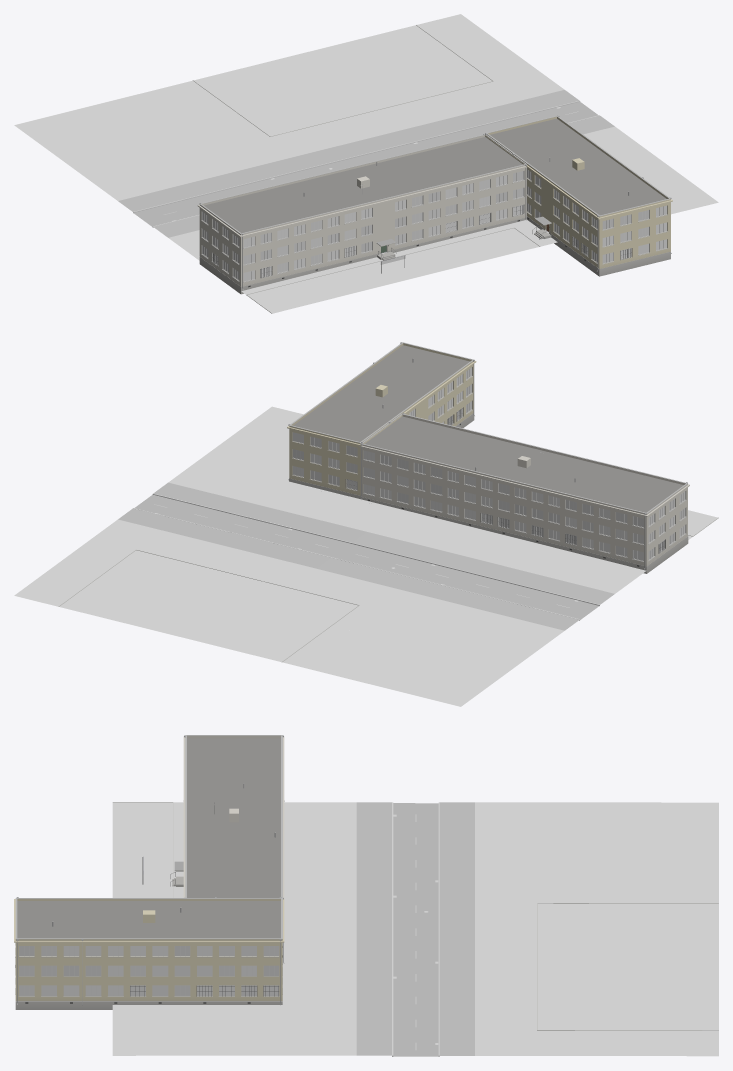
Rendered from chunk_3_1.glb.
3 renders of one model, top to bottom at view 1: azimuth 30°, elevation 25°; view 2: azimuth 150°, elevation 25°; view 3: azimuth 270°, elevation 25°, orthographic. The views are drawn at different scales.
Visible parts, largest first — view 1: base, detail; view 2: base, detail; view 3: base, detail.
Part boxes in pixels (x1=…): base: x1=14, y1=14, x2=718, y2=313; detail: x1=199, y1=115, x2=671, y2=289; base: x1=14, y1=342, x2=718, y2=706; detail: x1=288, y1=342, x2=687, y2=569; base: x1=14, y1=735, x2=718, y2=1056; detail: x1=15, y1=735, x2=284, y2=1004.
Size of what is drawn, in the model's own units: 100 by 14.6 by 116.
